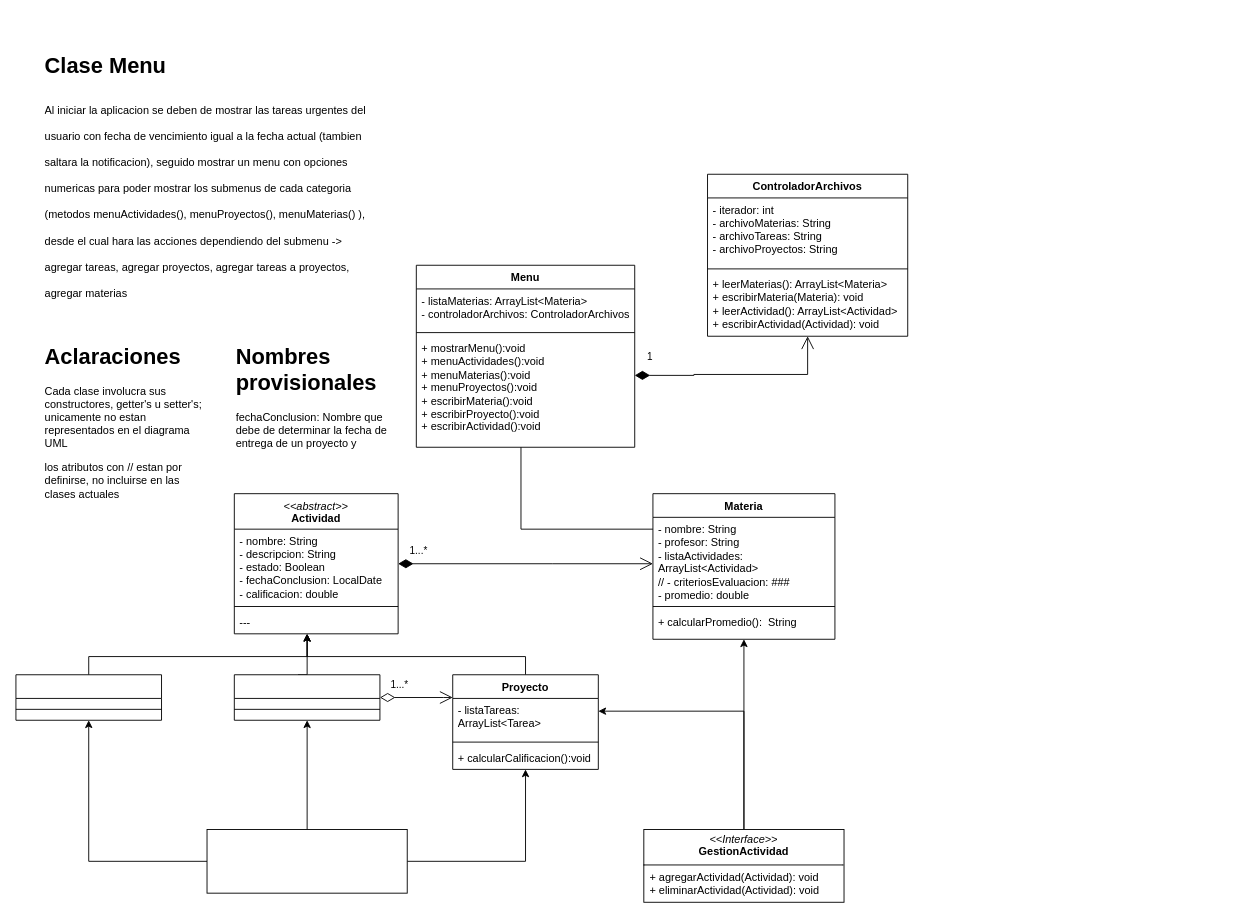
Image size: 1233x918. Some labels were removed from this diagram. The centre of each missing label's shape, as x and y in pixels:
"<<Interface>> Notificar + notificarUsuario(): void" belongs at [306,861].
"Examen" belongs at [88,697].
"Tarea" belongs at [306,697].
